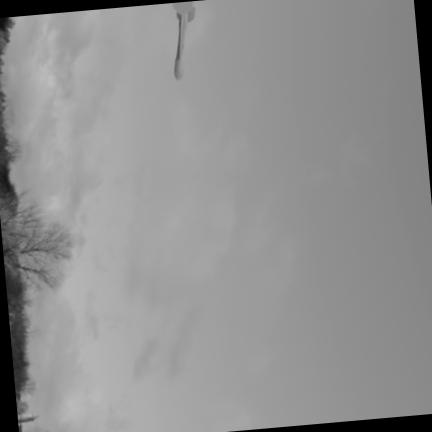Shahed: (172, 2, 195, 81)
